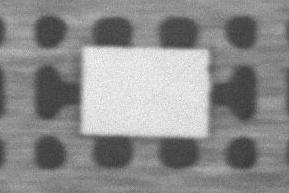DIE_CRACK: (213, 35, 289, 72)
